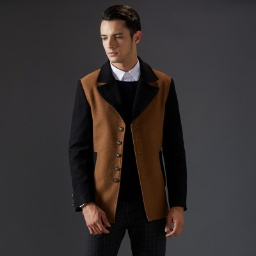face: (97, 6, 146, 65)
